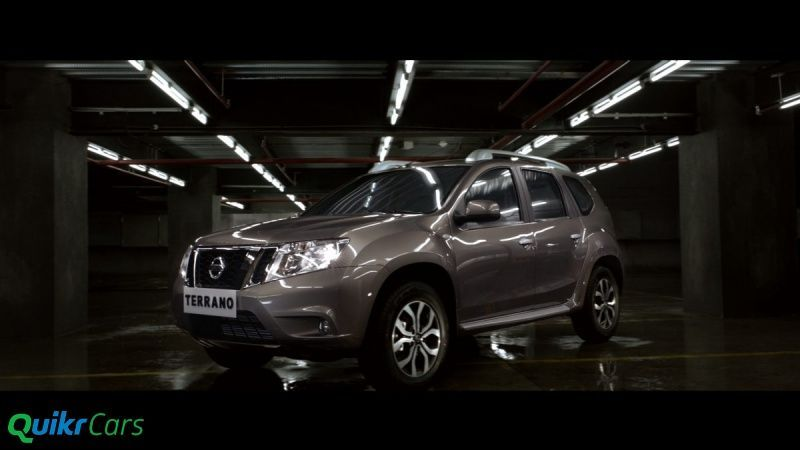number_plate: (178, 281, 242, 319)
